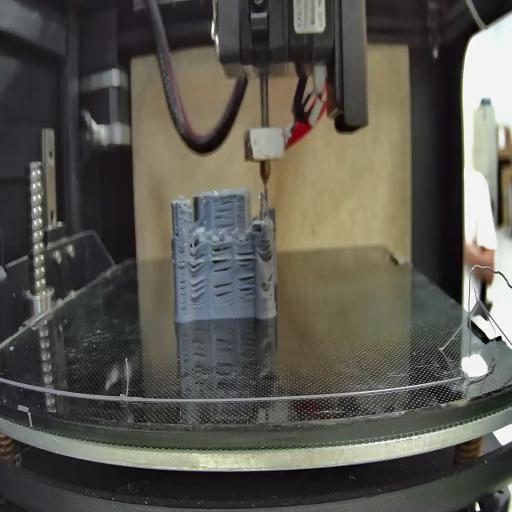cracks: (215, 194, 235, 229), (212, 244, 233, 276), (177, 249, 186, 312), (213, 282, 234, 304), (237, 276, 256, 300), (190, 280, 208, 303), (236, 248, 255, 268), (188, 253, 206, 272), (264, 242, 274, 259), (174, 222, 182, 239), (268, 271, 272, 284)
